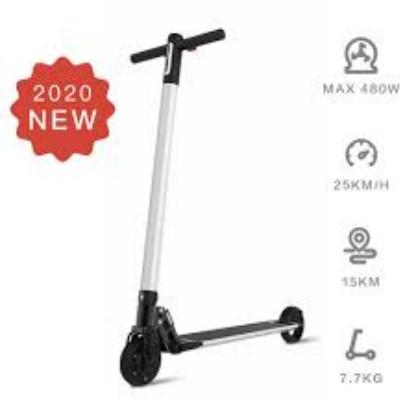bike: (118, 25, 308, 388)
